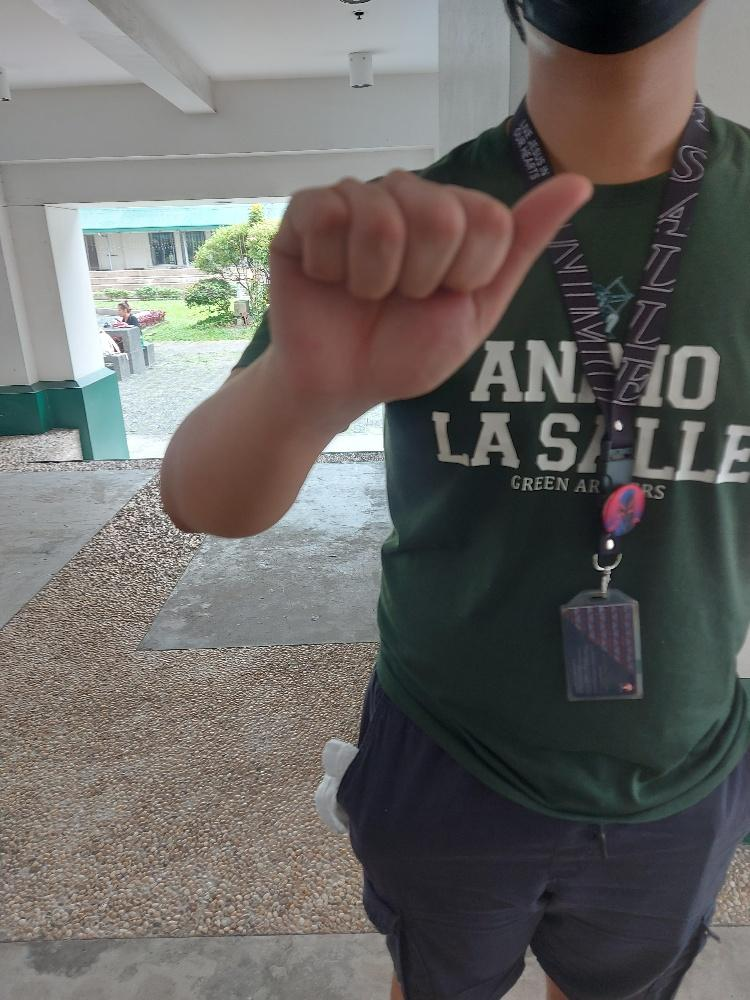a: (267, 167, 596, 399)
